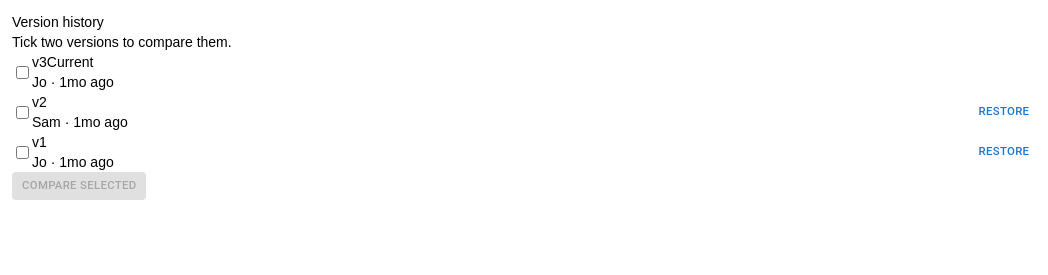
JL-109 compare › explains an empty diff instead of showing an empty box
Expected: the text "v3" is shown, 32,54 -> 94,70
Click the checkbox named "Select version 1 to compare": (22, 152) 16,146 -> 29,158
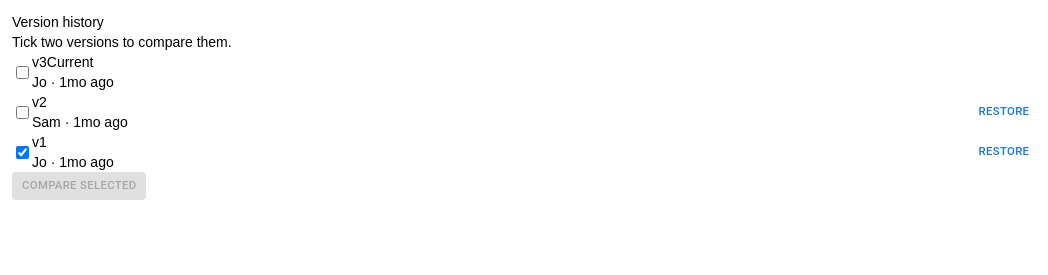
Click the checkbox named "Select version 3 to compare": (22, 72) 16,66 -> 29,78
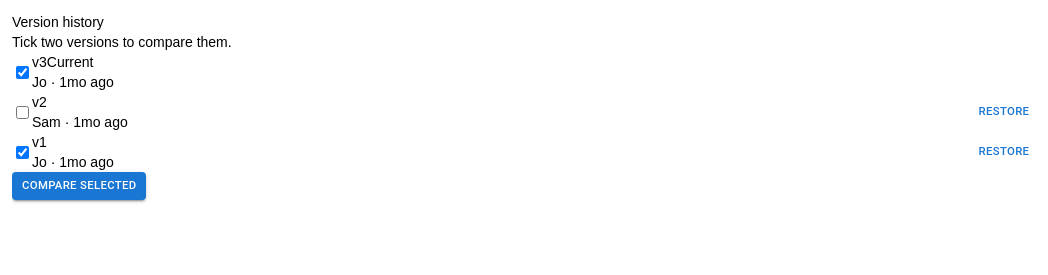
Click the button "Compare selected": (79, 186) 12,172 -> 146,200
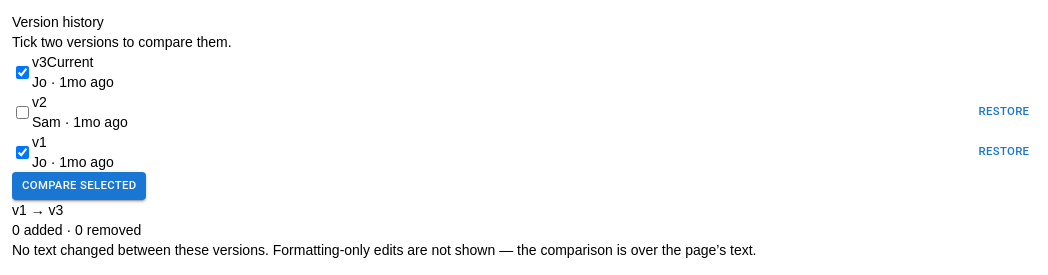
Expected: the text "Formatting-only edits are not shown" is shown, 12,242 -> 756,258
